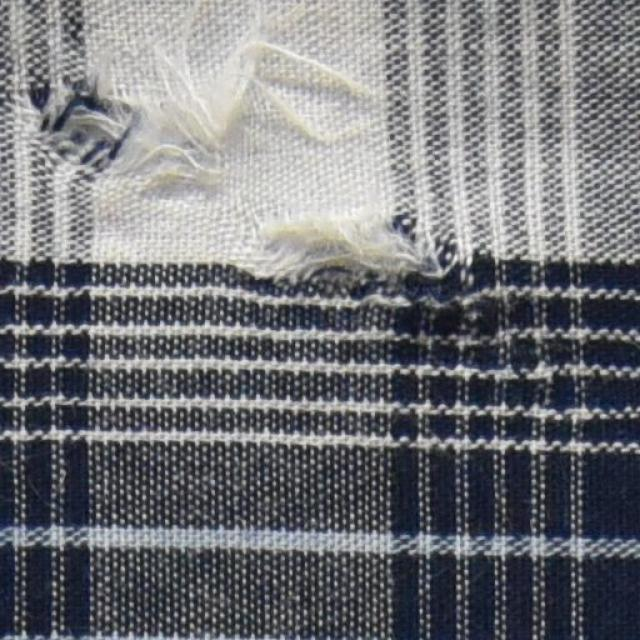Snag: (16, 24, 372, 216), (228, 197, 459, 284)
